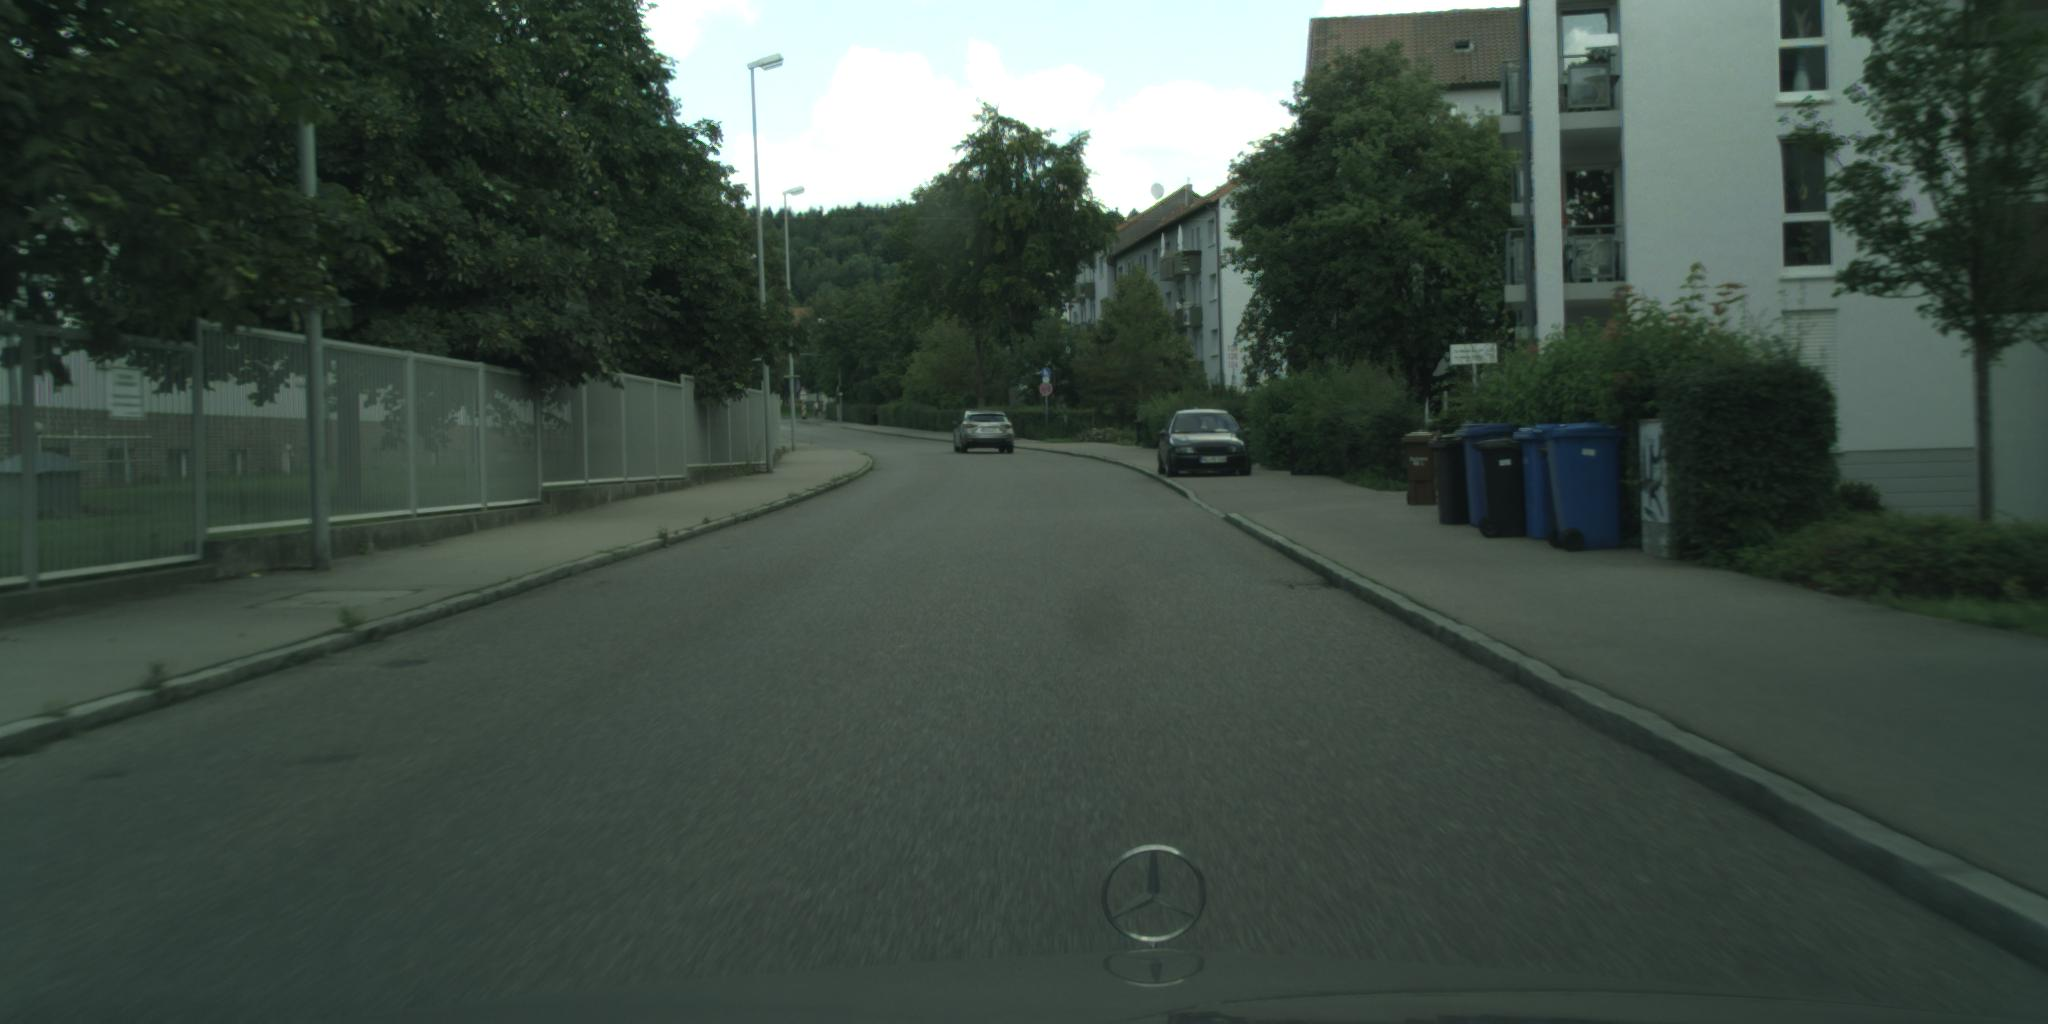car: (1157, 410, 1253, 478), (952, 411, 1015, 455)
